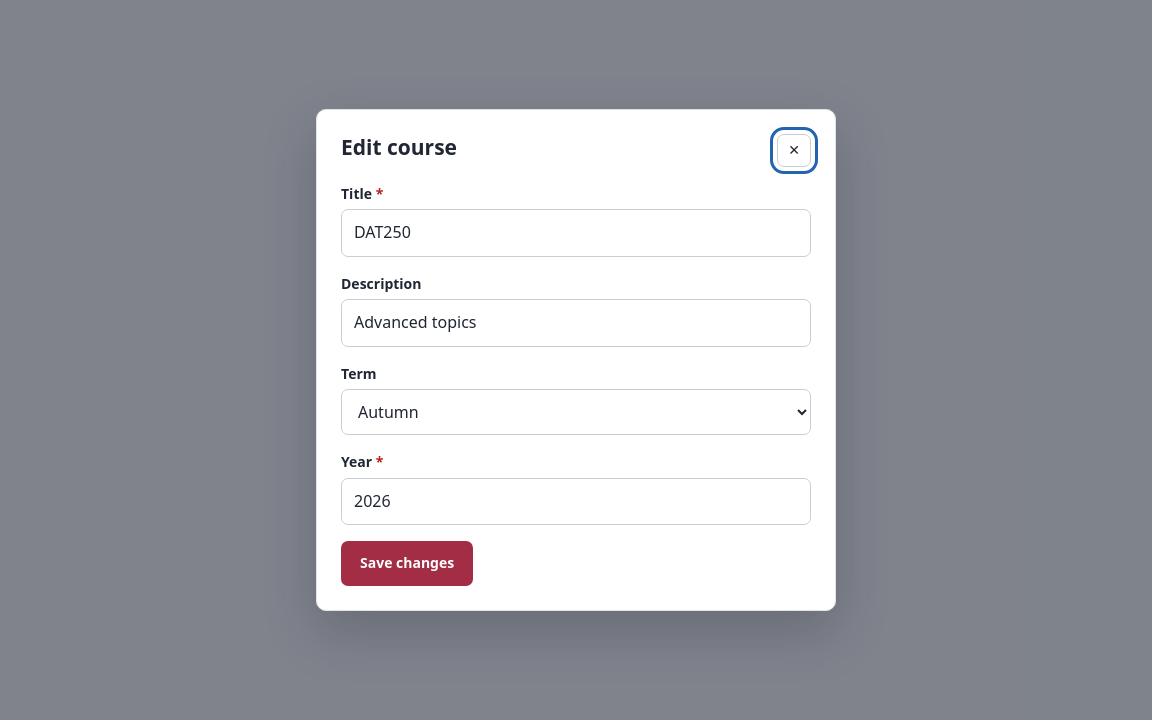
Scenario: EditCourseModal › shows an error when saving fails
Step 1. Click the button "Save changes" → (407, 563), box [341, 541, 473, 586]
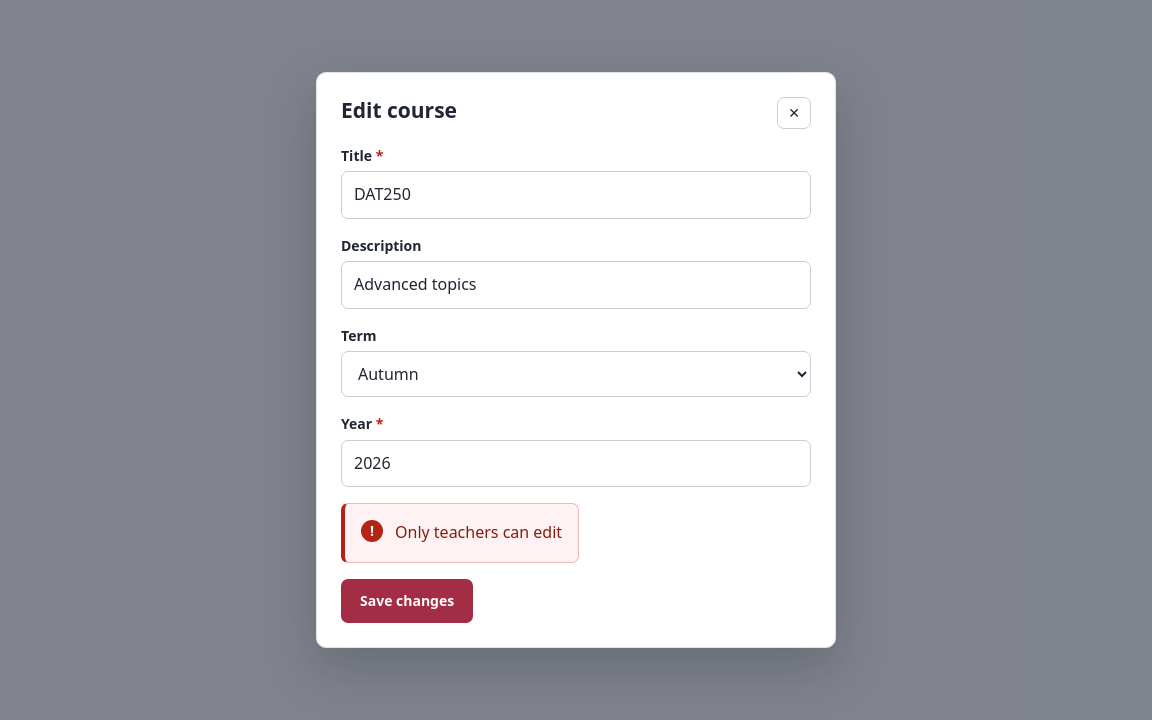
Expected: the message shows "Only teachers can edit", [395, 521, 562, 543]
